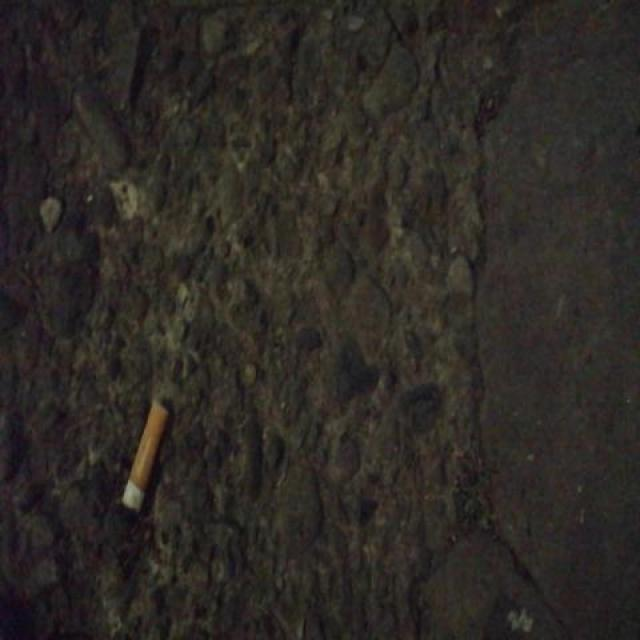non-organic waste: (116, 392, 172, 520)
